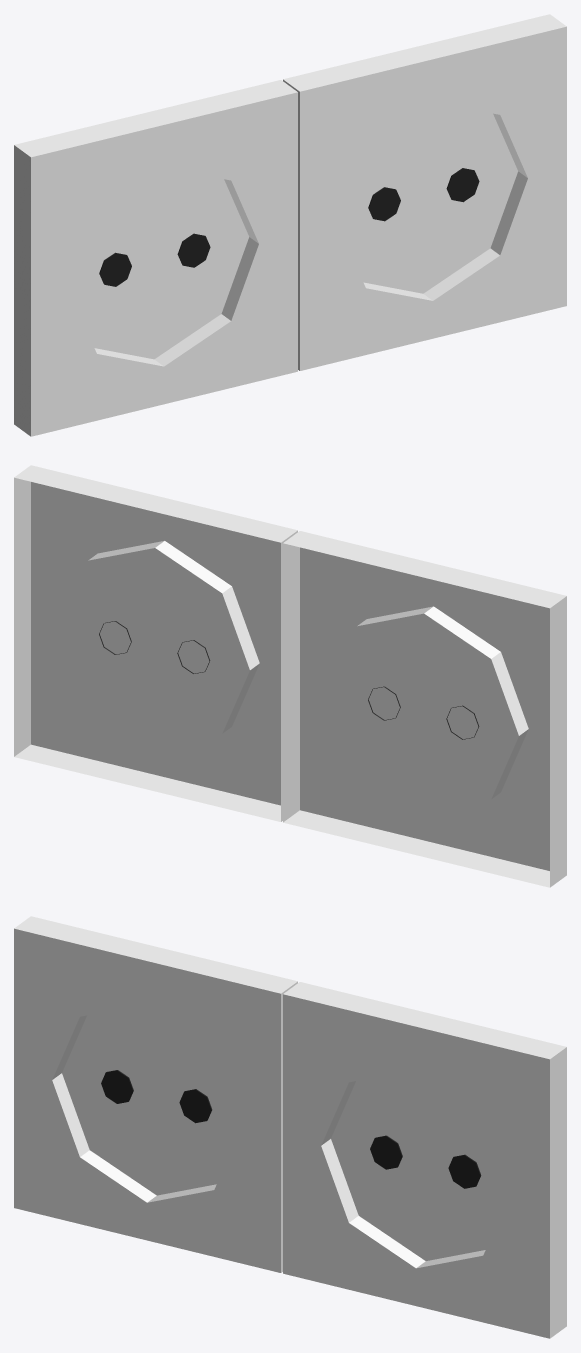
The model's file is Bathroom2_socket.fbx.
3 renders of one model, top to bottom at view 1: azimuth 30°, elevation 25°; view 2: azimuth 150°, elevation 25°; view 3: azimuth 330°, elevation 25°, orthographic.
Visible parts, largest first — view 1: Bathroom2_socket; view 2: Bathroom2_socket; view 3: Bathroom2_socket.
Part boxes in pixels (<box>): Bathroom2_socket: <box>14,14,566,436</box>; Bathroom2_socket: <box>14,465,566,887</box>; Bathroom2_socket: <box>14,916,566,1338</box>.
Bounding box in the file's own units: 27.17 × 1.49 × 13.53.
